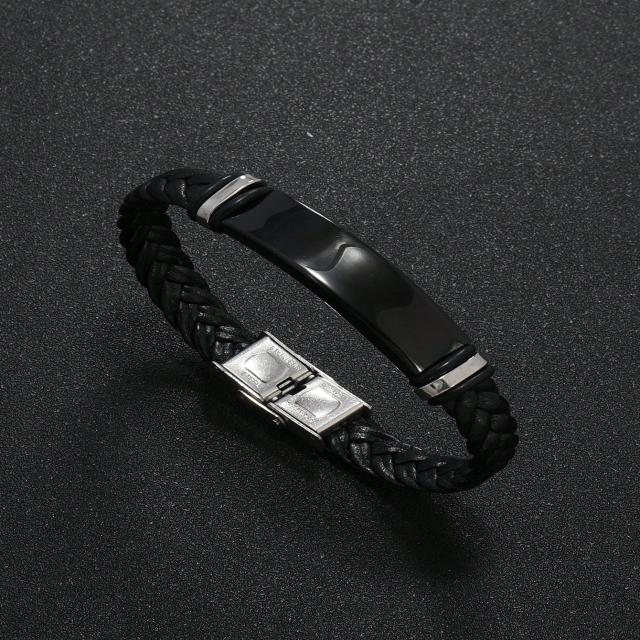bracelet: (89, 103, 640, 640)
